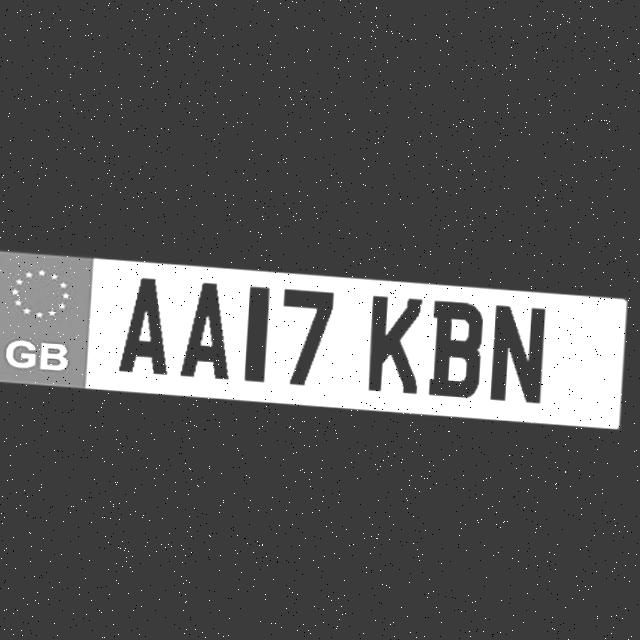license-plates: (0, 253, 628, 428)
